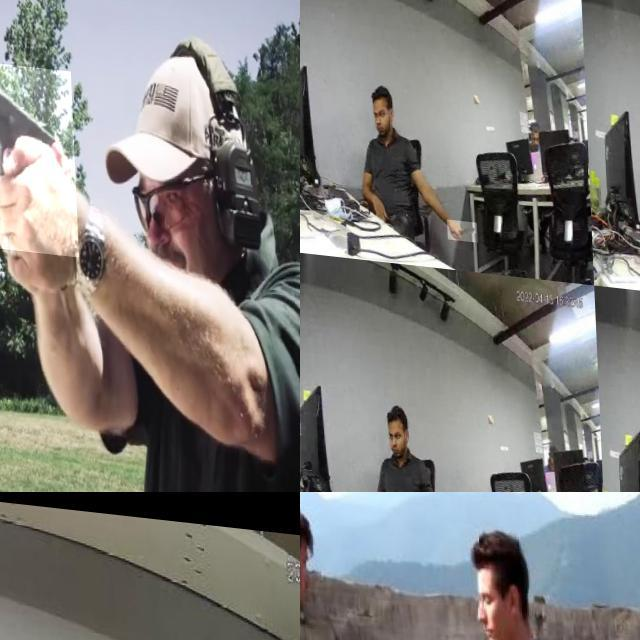-: (444, 215, 476, 238)
gun-knife-thesis - v11 Yolov5 augmented: (0, 53, 76, 249)
